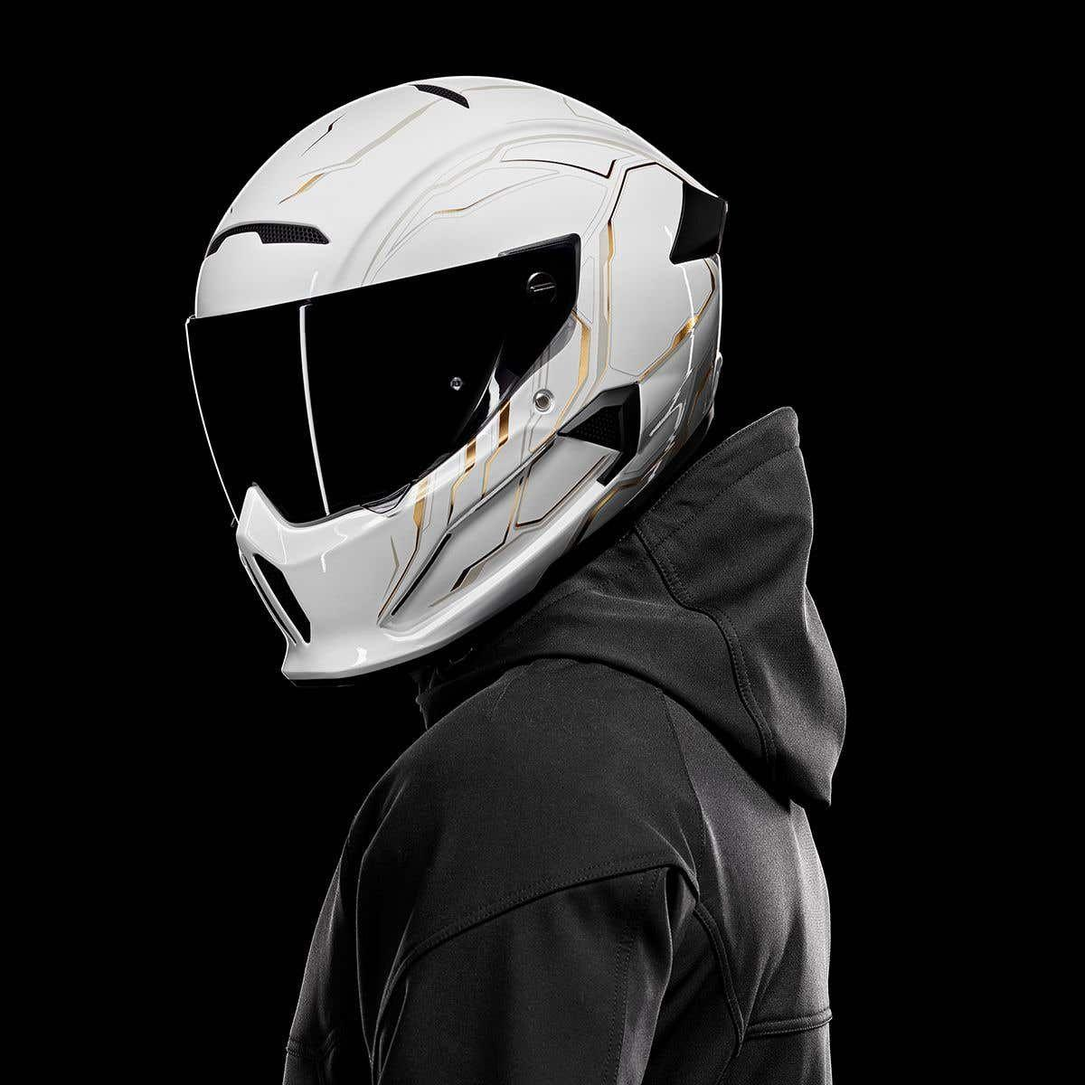Helmet: (187, 77, 718, 681)
